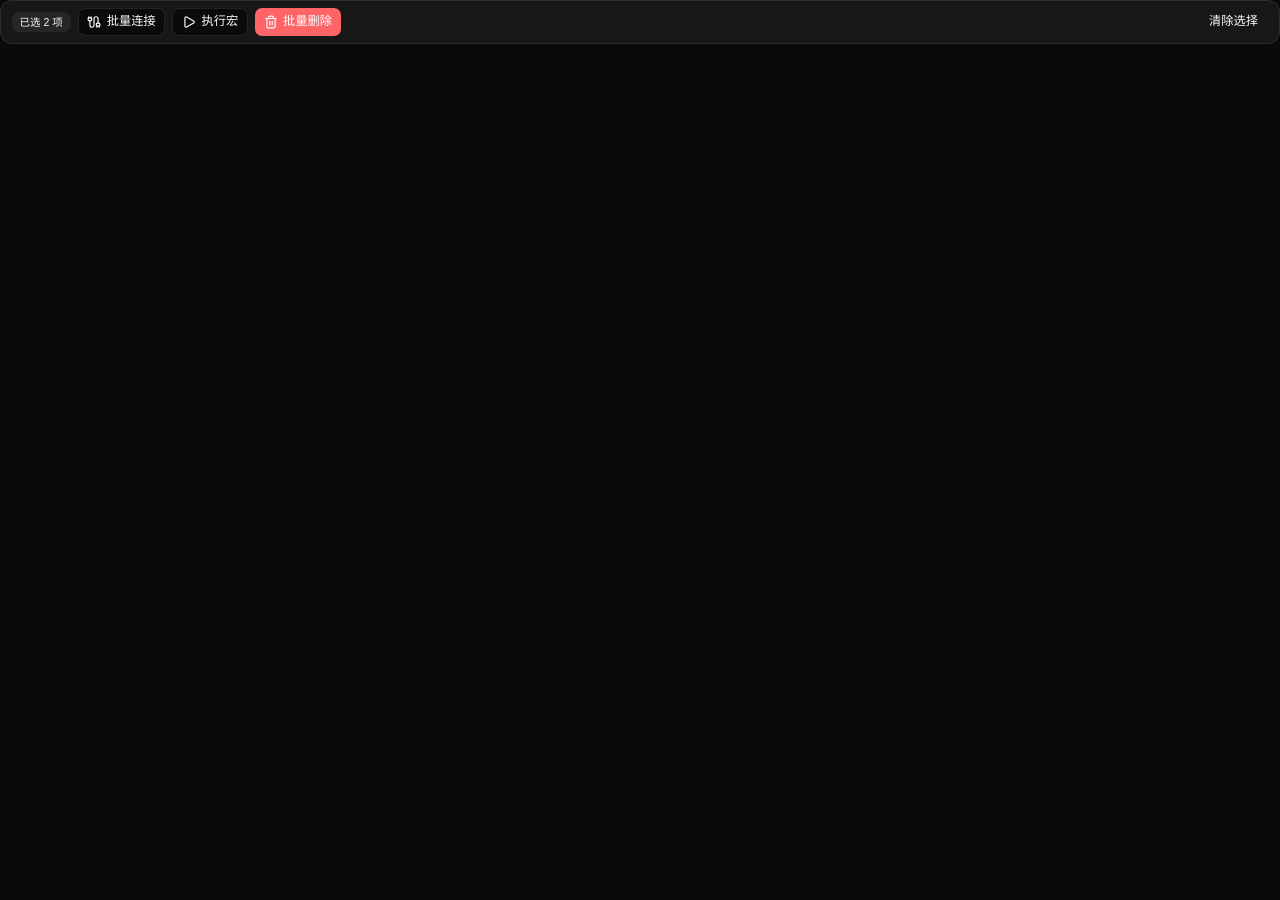
SessionBatchActions › shows delete impact failures in confirmation without faking zero impact
This screenshot has width=1280, height=900.
Click the button "批量删除".
click(298, 22)  # box [255,8,341,36]
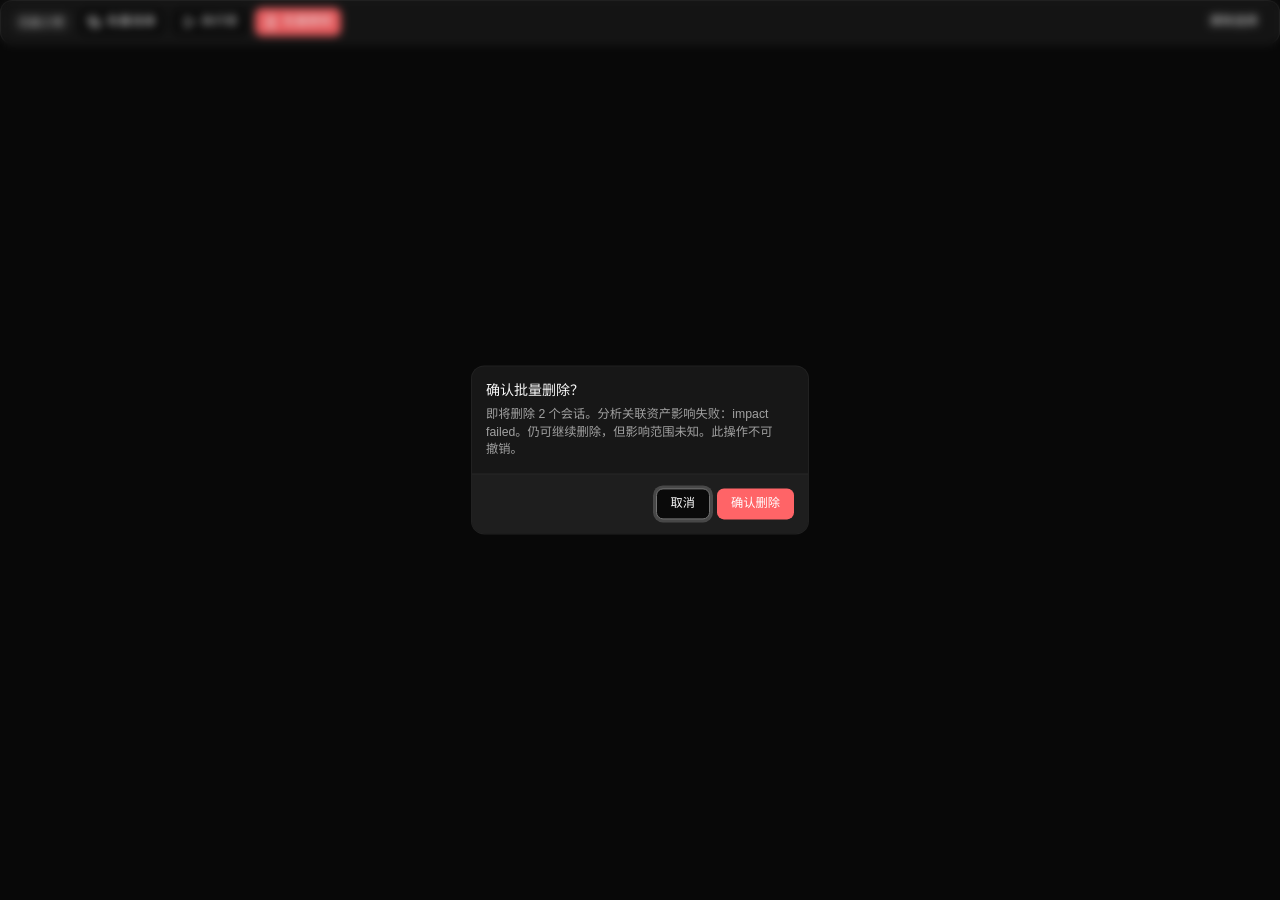
Check: the dialog does not show "0 条隧道", box [472,366,808,534]
Check: the dialog shows "impact failed", box [486,408,772,457]
Check: the dialog shows "影响范围未知", box [486,408,772,457]
